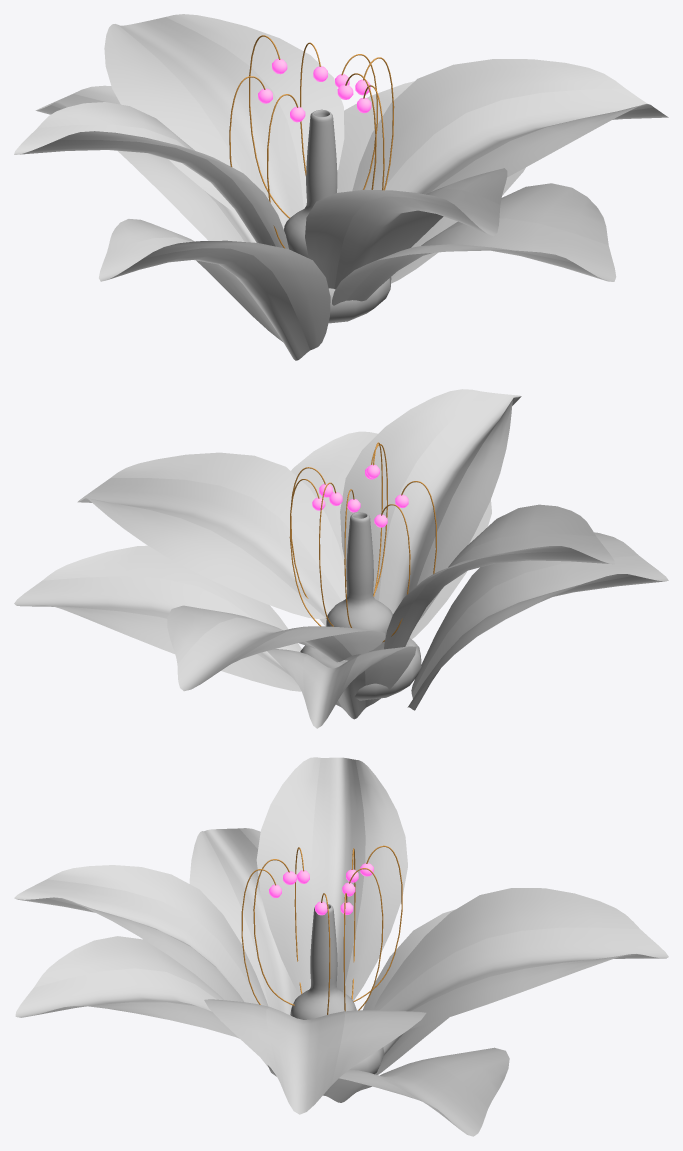
File: Flower.fbx
The picture shows the model from 3 angles, top to bottom: view 1: azimuth 30°, elevation 25°; view 2: azimuth 150°, elevation 25°; view 3: azimuth 270°, elevation 25°; orthographic projection. The views are drawn at different scales.
Parts seen in each view (by area): view 1: estambreShape1; view 2: estambreShape1; view 3: estambreShape1.
Part boxes in pixels (x1,y1,x2,y2): estambreShape1: [14, 14, 668, 360]; estambreShape1: [14, 389, 668, 728]; estambreShape1: [14, 757, 668, 1136].
Bounding box in the file's own units: 3.88 × 1.65 × 3.97.
